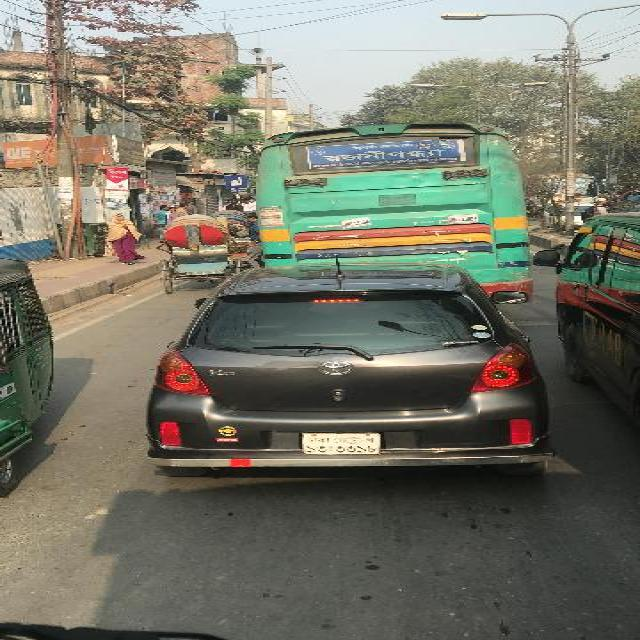bus: (253, 121, 532, 303), (530, 172, 596, 202)
car: (139, 268, 565, 478), (541, 202, 611, 228)
rickshaw: (156, 214, 242, 294), (209, 210, 250, 262), (620, 191, 636, 207), (596, 188, 612, 202)
three wheelers -CNG-: (0, 255, 57, 499)
van: (532, 212, 638, 406)
